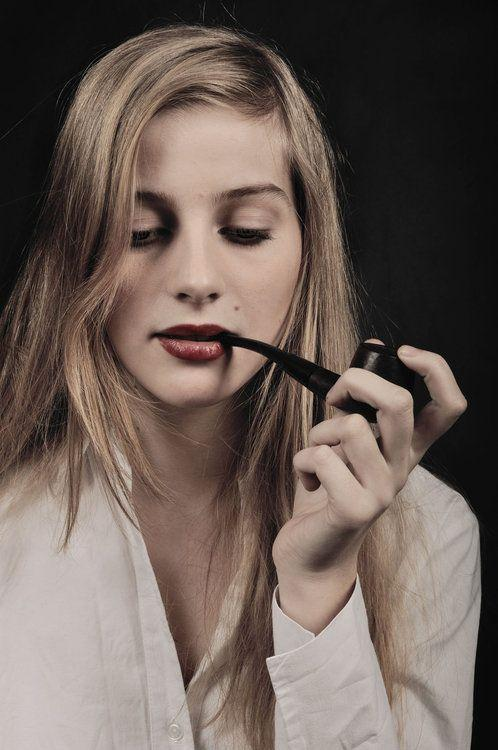trubka: (215, 332, 431, 422)
